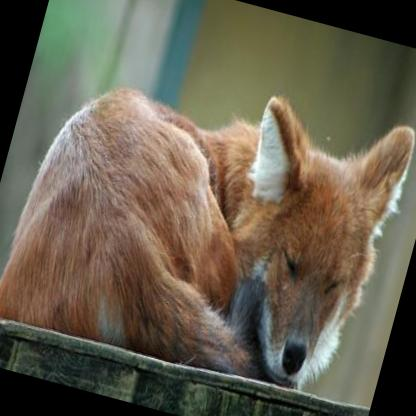dhole: (0, 30, 416, 406)
